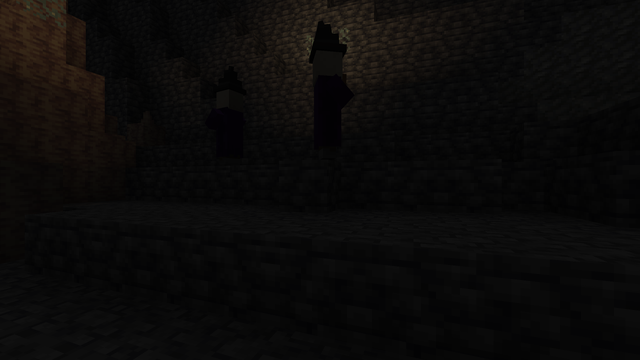sorcieres: (305, 42, 346, 160), (212, 85, 246, 165)
